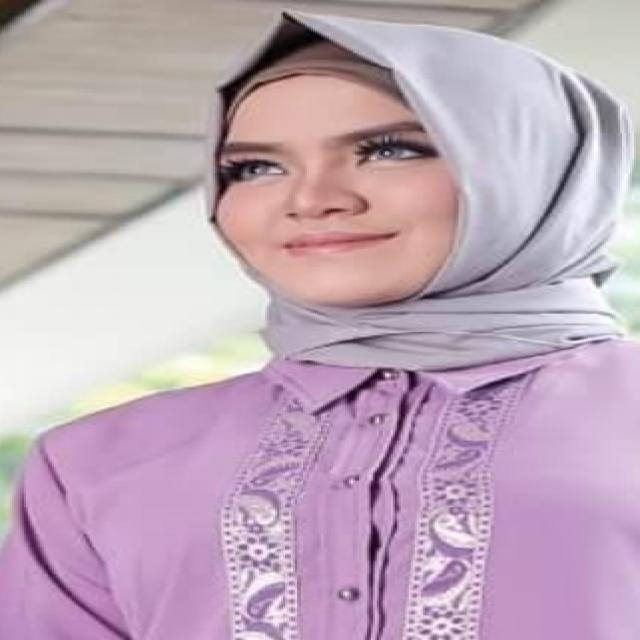head: (161, 19, 583, 323)
